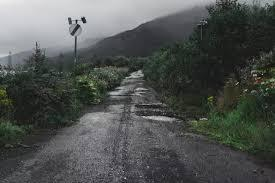Pothole: (136, 110, 183, 123), (128, 101, 174, 113), (103, 90, 149, 100), (131, 81, 149, 92), (130, 68, 144, 79)
